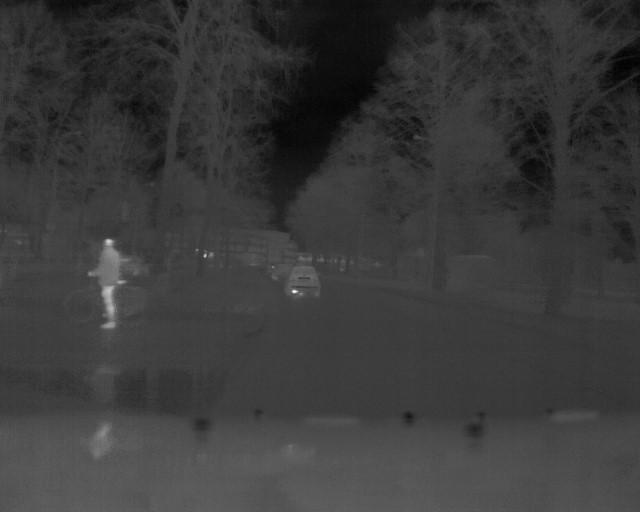car: (281, 263, 324, 301)
person: (93, 233, 124, 333)
